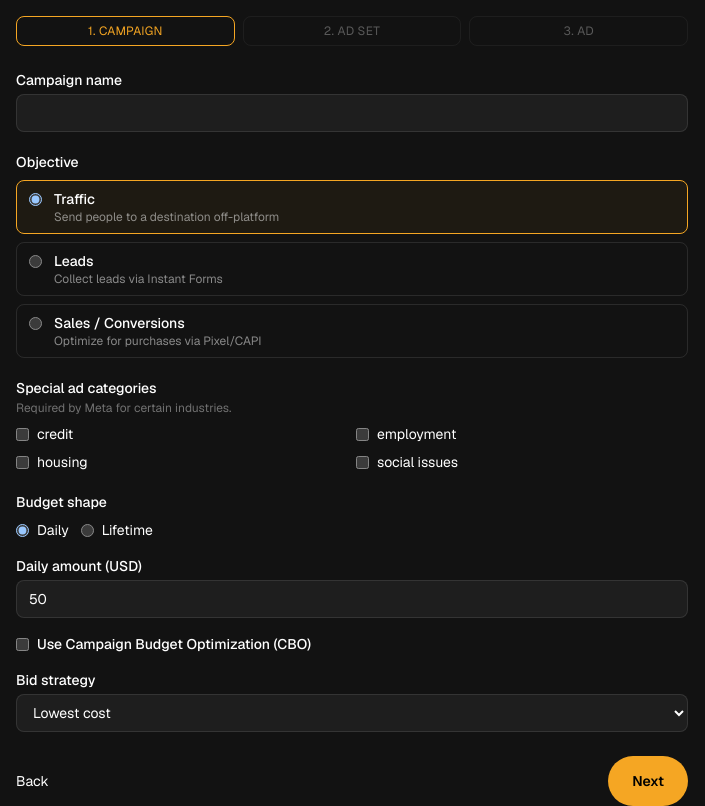
Test: CampaignBuilder › Next advances to step 2 (Ad Set)
(page scrolled)
Click the button "Next" at (648, 781), box [608, 756, 688, 805]
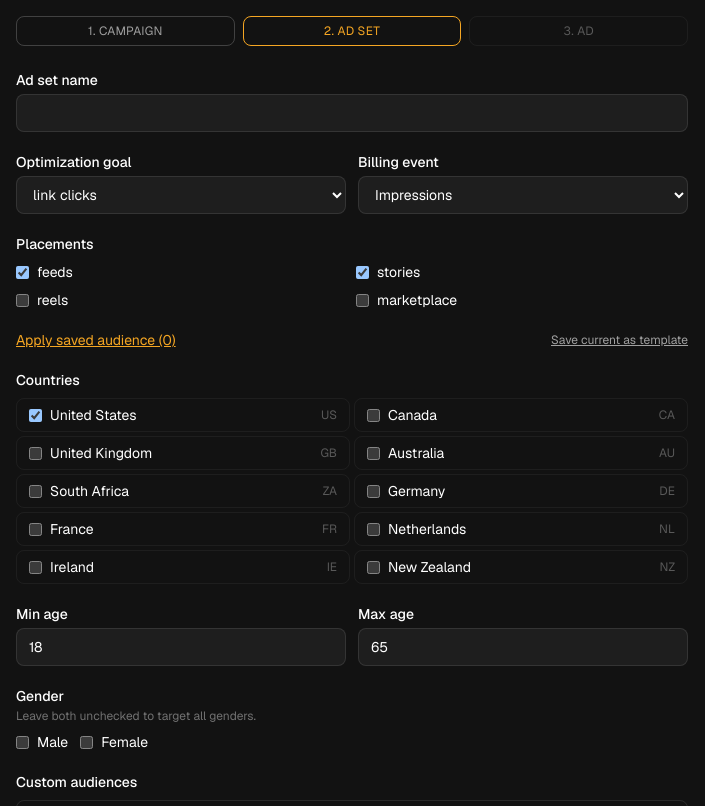
Expected: the field labelled "Ad set name" is shown, [16, 94, 688, 132]
Now the text "Optimization goal" is shown, box [16, 153, 131, 171]
